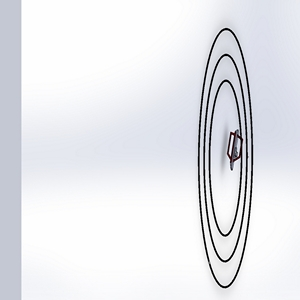circle: (183, 20, 275, 294)
submarine: (219, 128, 243, 177)
